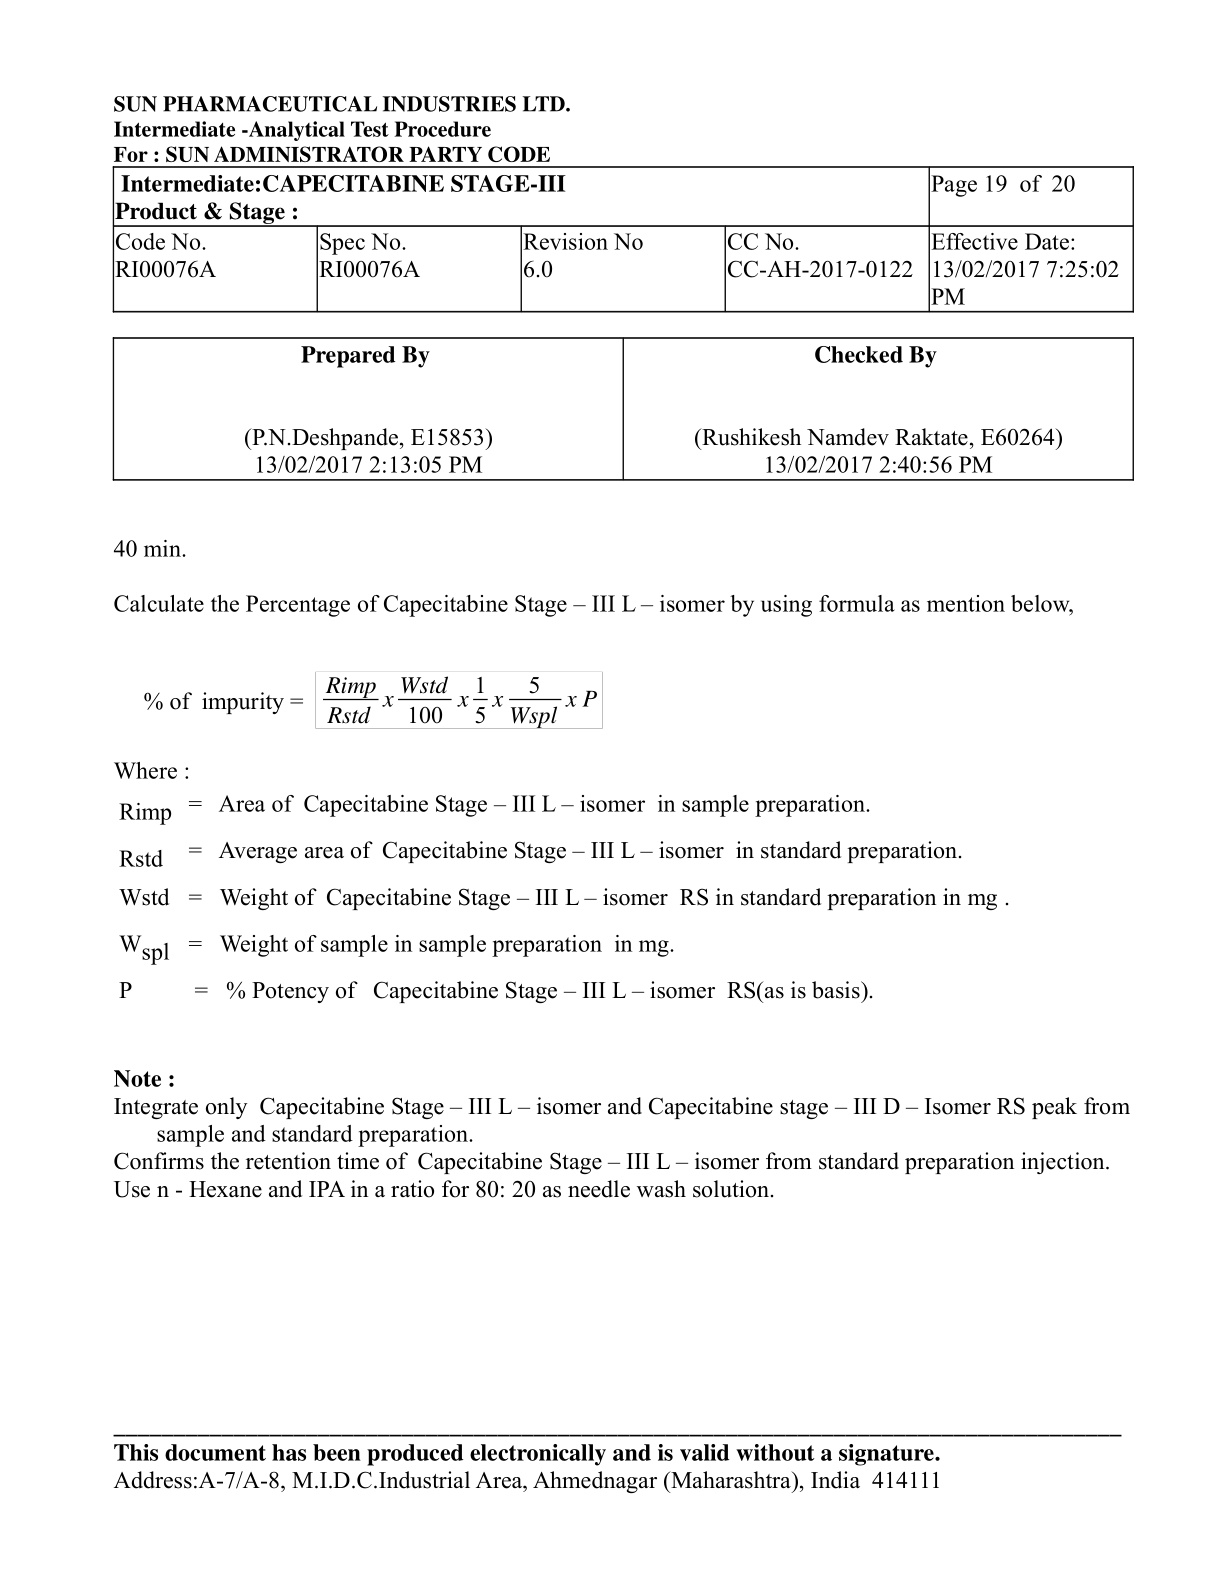full_lined: (112, 336, 1134, 481)
merged_cells: (112, 165, 1134, 312)
nolines: (118, 793, 1011, 1005)
